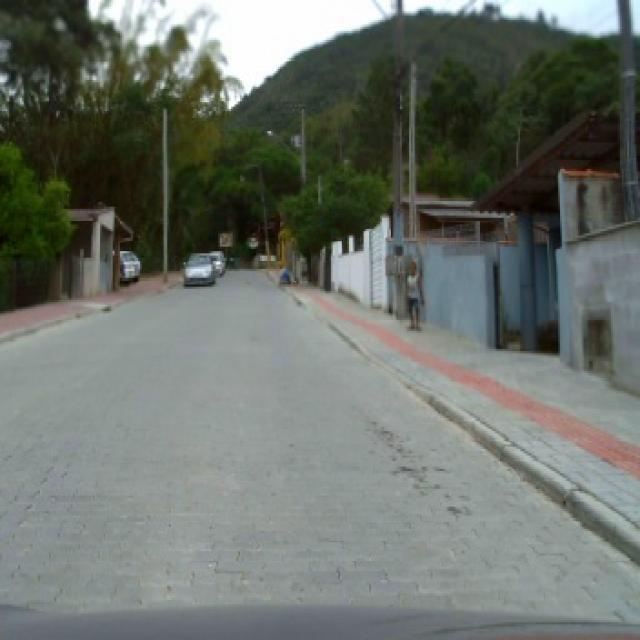Poth-hole: (98, 302, 111, 311)
